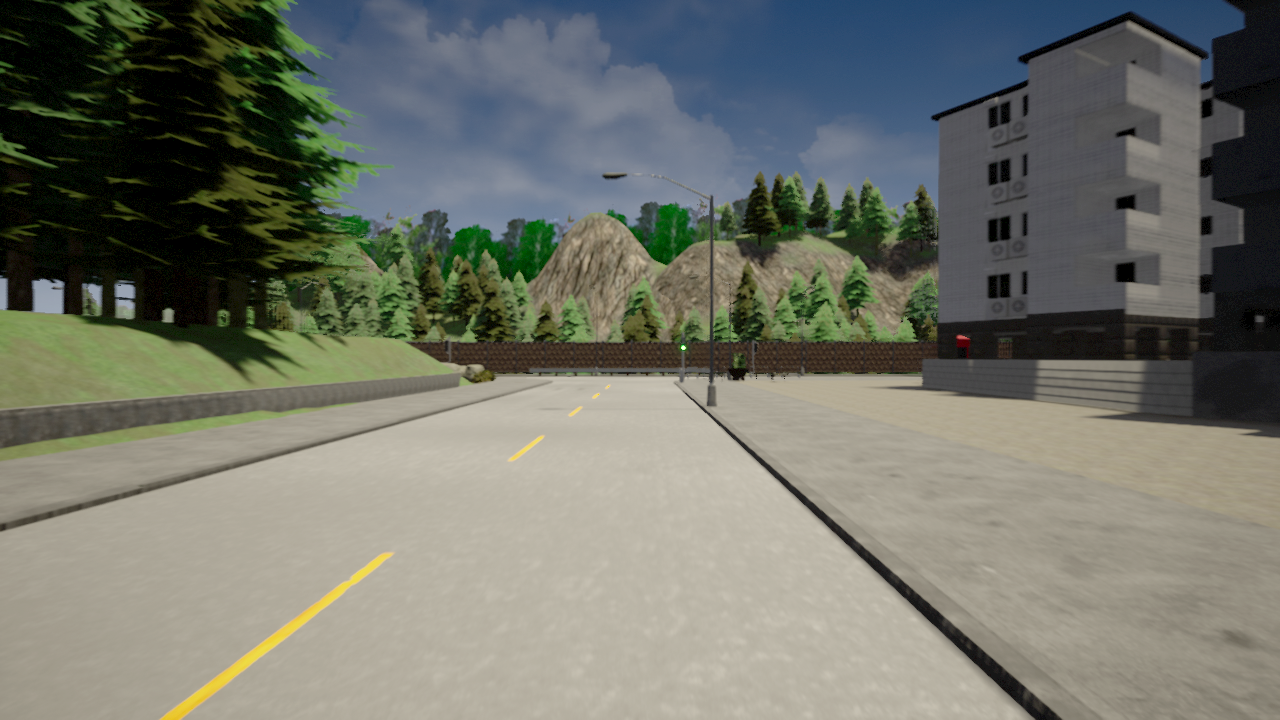green: (679, 336, 688, 352)
